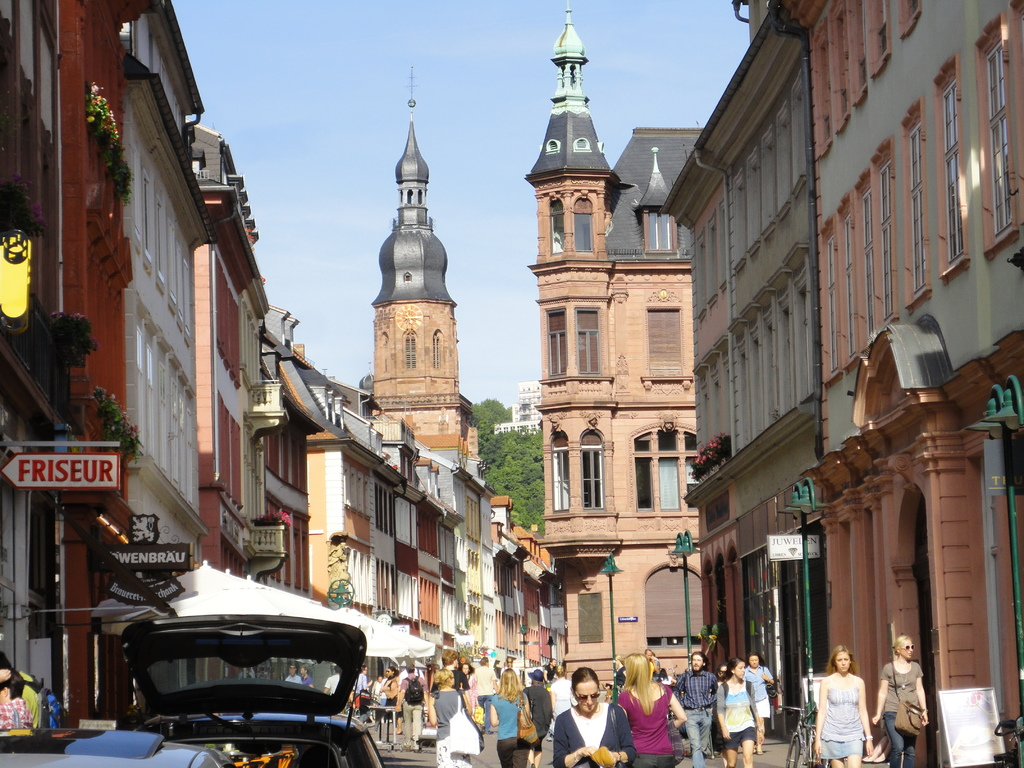Car: (117, 609, 385, 767), (0, 726, 225, 767)
